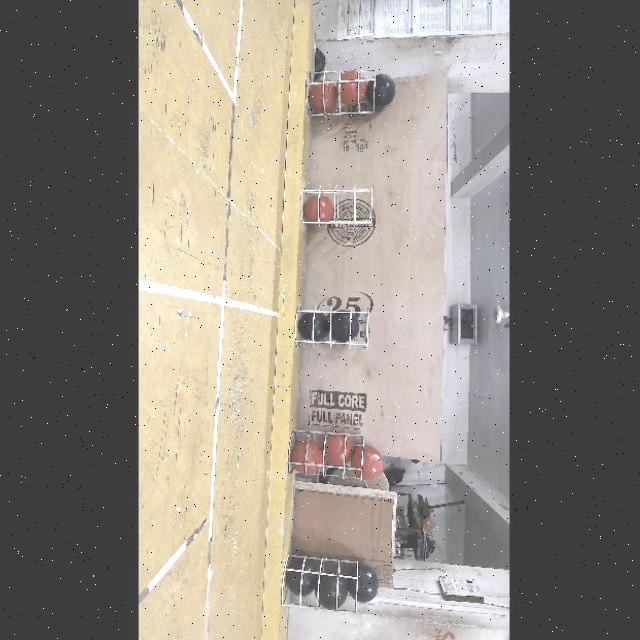P: (284, 560, 316, 596), (364, 73, 395, 108), (347, 567, 376, 601), (298, 312, 324, 340), (318, 577, 342, 605), (329, 314, 353, 342)
R: (336, 74, 364, 110), (351, 448, 382, 480), (292, 439, 320, 473), (311, 80, 334, 112), (304, 197, 330, 225), (324, 434, 348, 464)
S: (283, 551, 363, 607), (296, 298, 374, 354), (302, 67, 376, 121), (288, 432, 367, 478), (303, 182, 373, 225)
